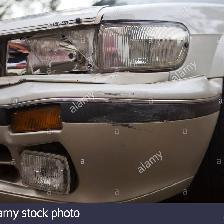broken_light: (70, 39, 91, 64)
